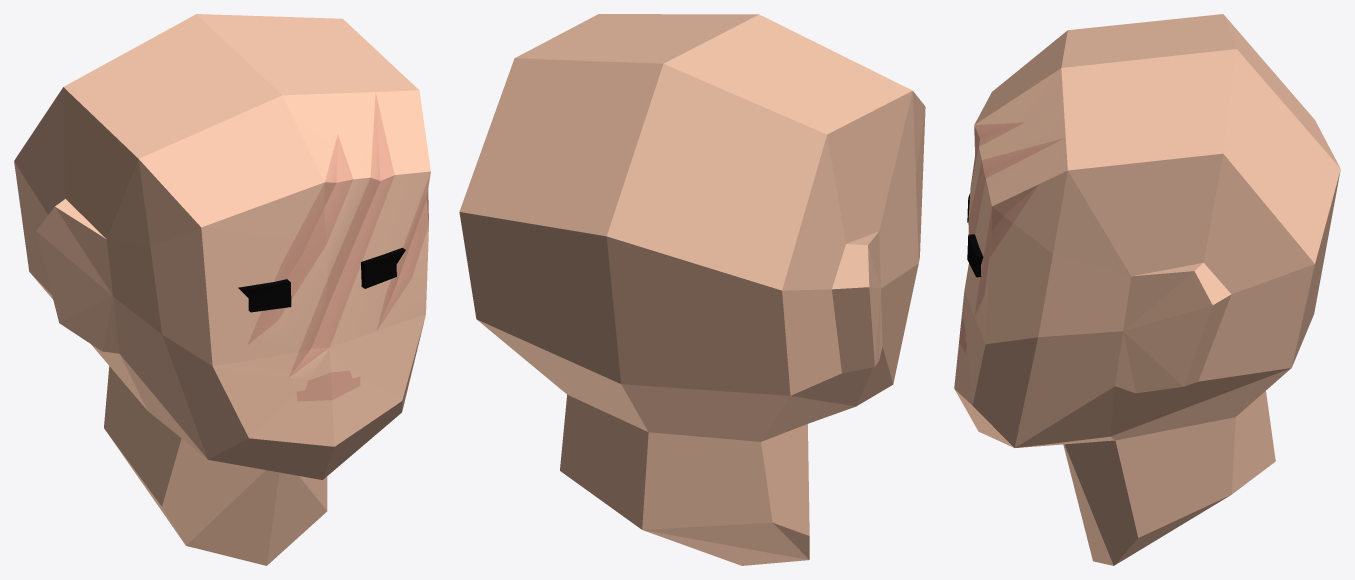
Rendered from Chr_Head_Female_05_Static.fbx.
3 renders of one model, left to right at view 1: azimuth 30°, elevation 25°; view 2: azimuth 150°, elevation 25°; view 3: azimuth 270°, elevation 25°, orthographic. The views are drawn at different scales.
Parts seen in each view (by area): view 1: Chr_Head_Female_05_Static; view 2: Chr_Head_Female_05_Static; view 3: Chr_Head_Female_05_Static.
Part boxes in pixels (x1,y1,x2,y2): Chr_Head_Female_05_Static: (14, 14, 430, 565); Chr_Head_Female_05_Static: (459, 14, 925, 565); Chr_Head_Female_05_Static: (954, 14, 1340, 565).
Bounding box in the file's own units: 0.2661 × 0.3693 × 0.2526.
